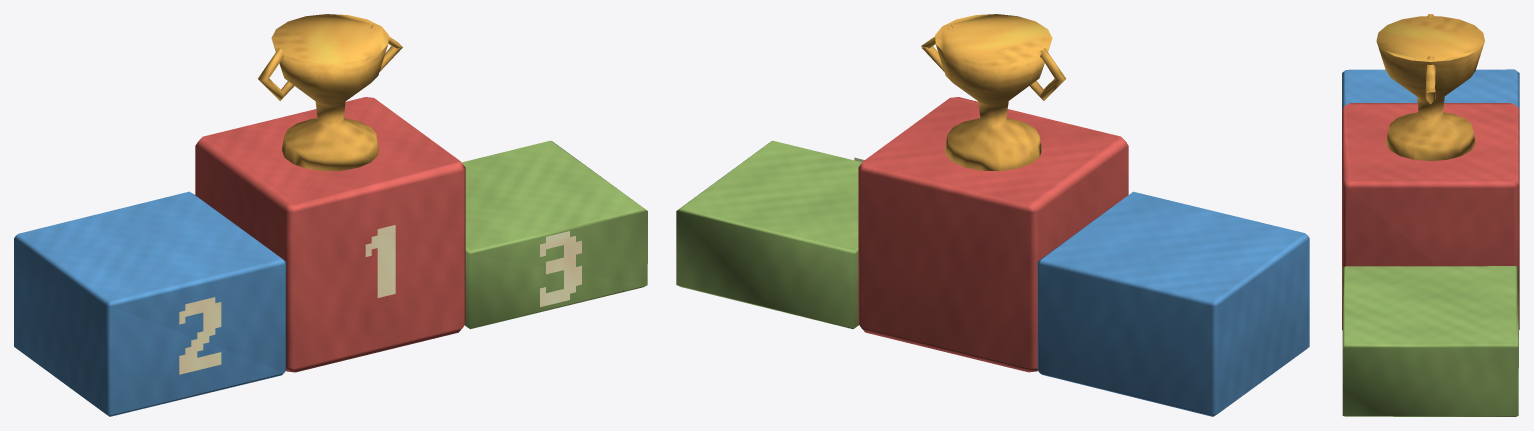
The model's file is race_podium.glb.
3 views of the same model, side by side, from view 1: azimuth 30°, elevation 25°; view 2: azimuth 150°, elevation 25°; view 3: azimuth 270°, elevation 25° (orthographic). The views are drawn at different scales.
Visible parts, largest first — view 1: Body; view 2: Body; view 3: Body.
Boxes of the visible parts, x1=… form: Body: x1=14, y1=14, x2=647, y2=416; Body: x1=676, y1=14, x2=1309, y2=416; Body: x1=1342, y1=14, x2=1519, y2=416.
Size of the model in its own units: 2.43 by 1.21 by 0.765.
Materials: 1 (1 with a texture image).
